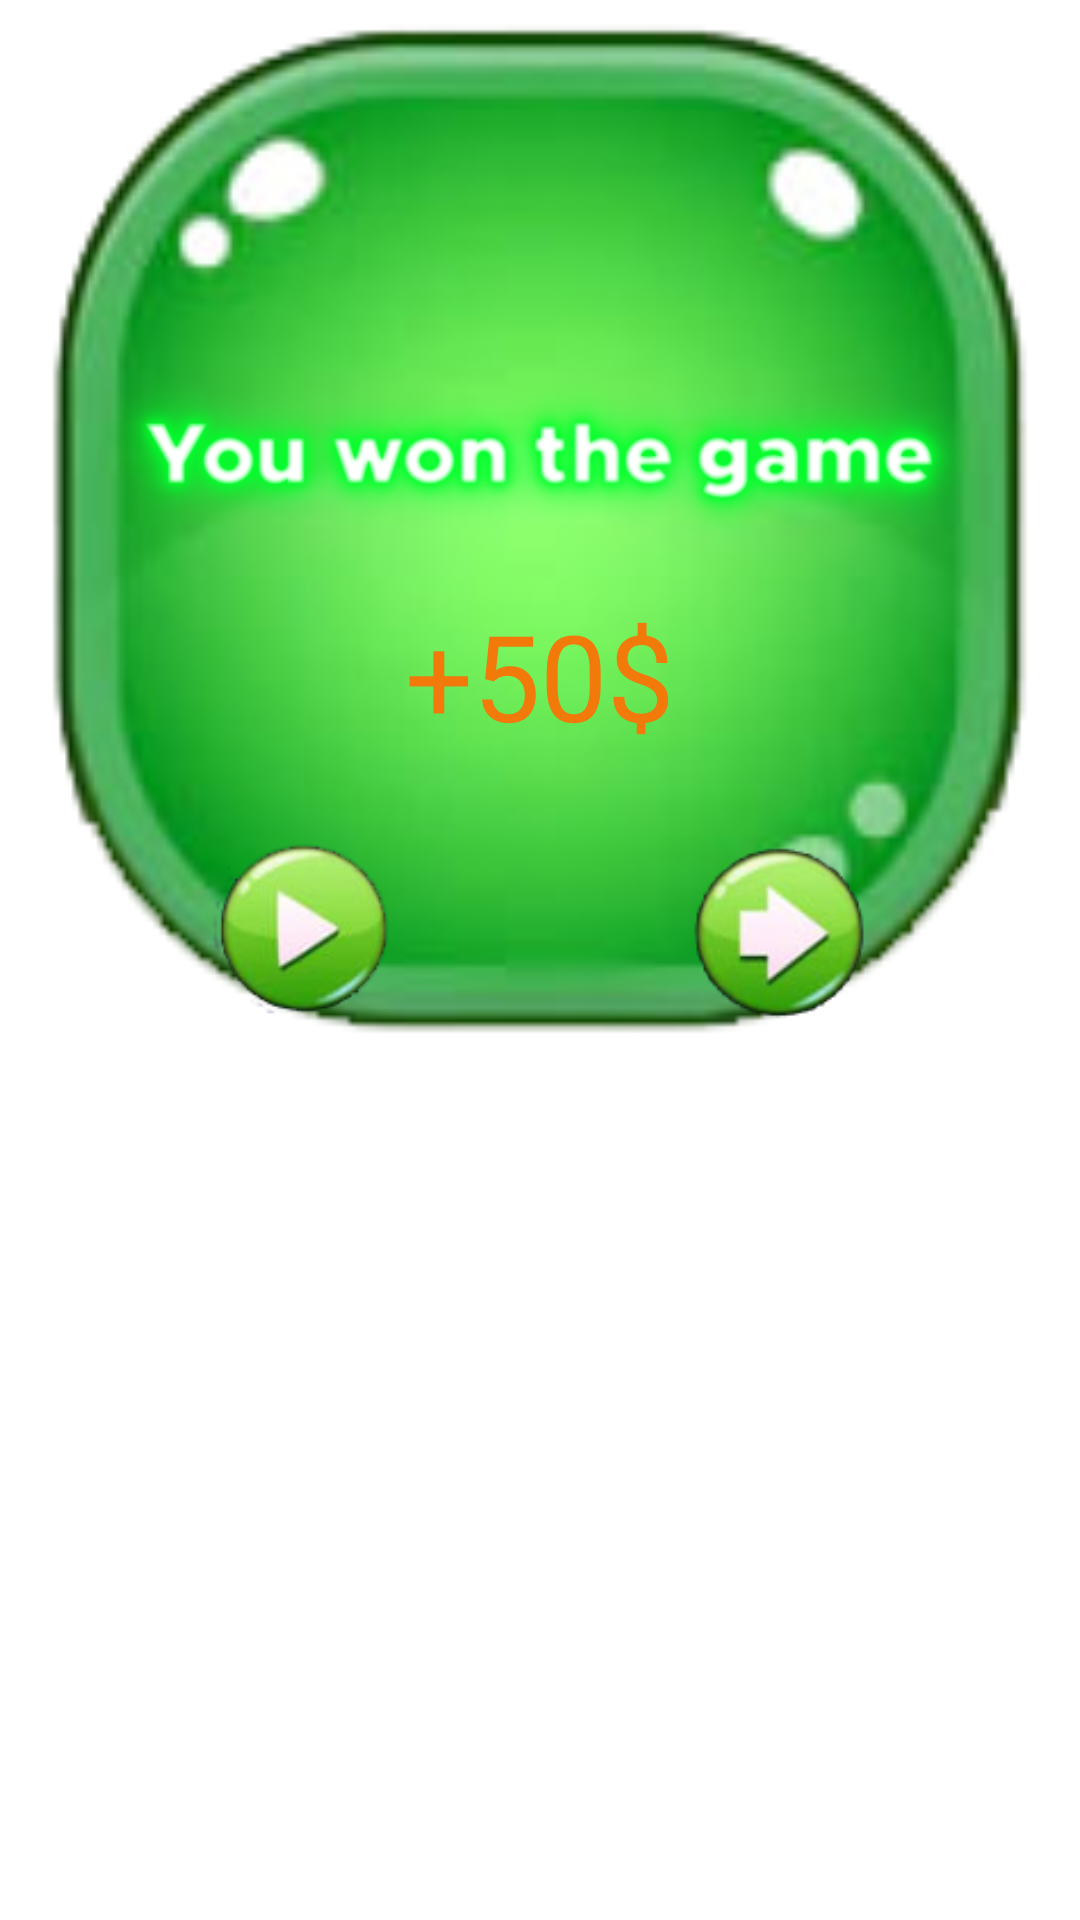

Icon click points for this 1080 × 1920 phone screenshot, format [x,y]:
contin: [780,930]
resume: [300,930]
